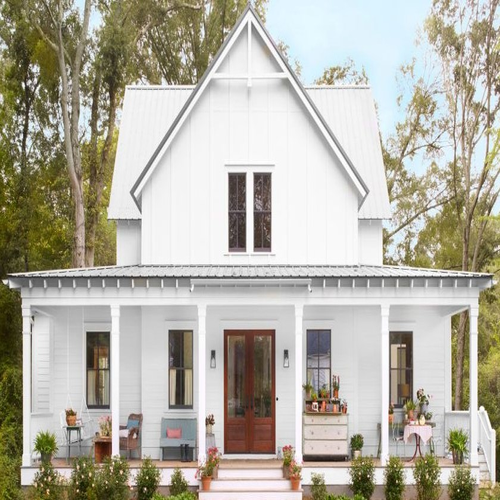Tin-shade House: (2, 18, 486, 478)
